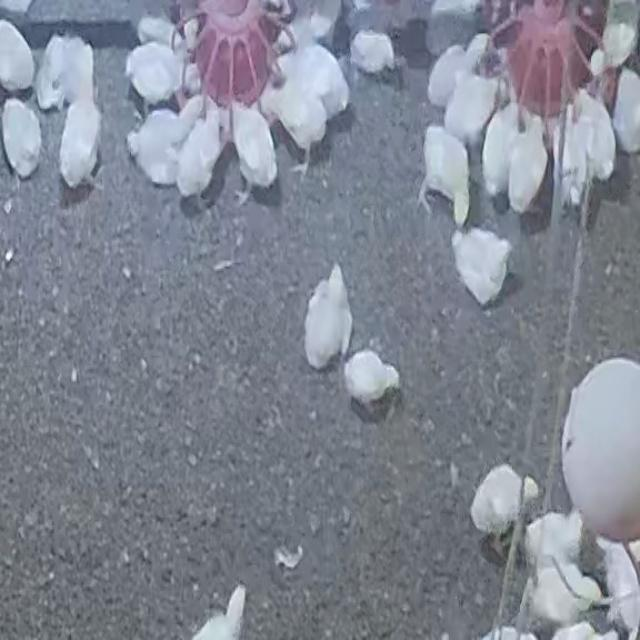chicken: (465, 463, 548, 560), (58, 44, 108, 198), (299, 260, 357, 373), (226, 98, 282, 214), (416, 118, 477, 224), (175, 98, 226, 222), (446, 224, 516, 308), (504, 111, 551, 226), (338, 341, 402, 421), (345, 28, 408, 78)
